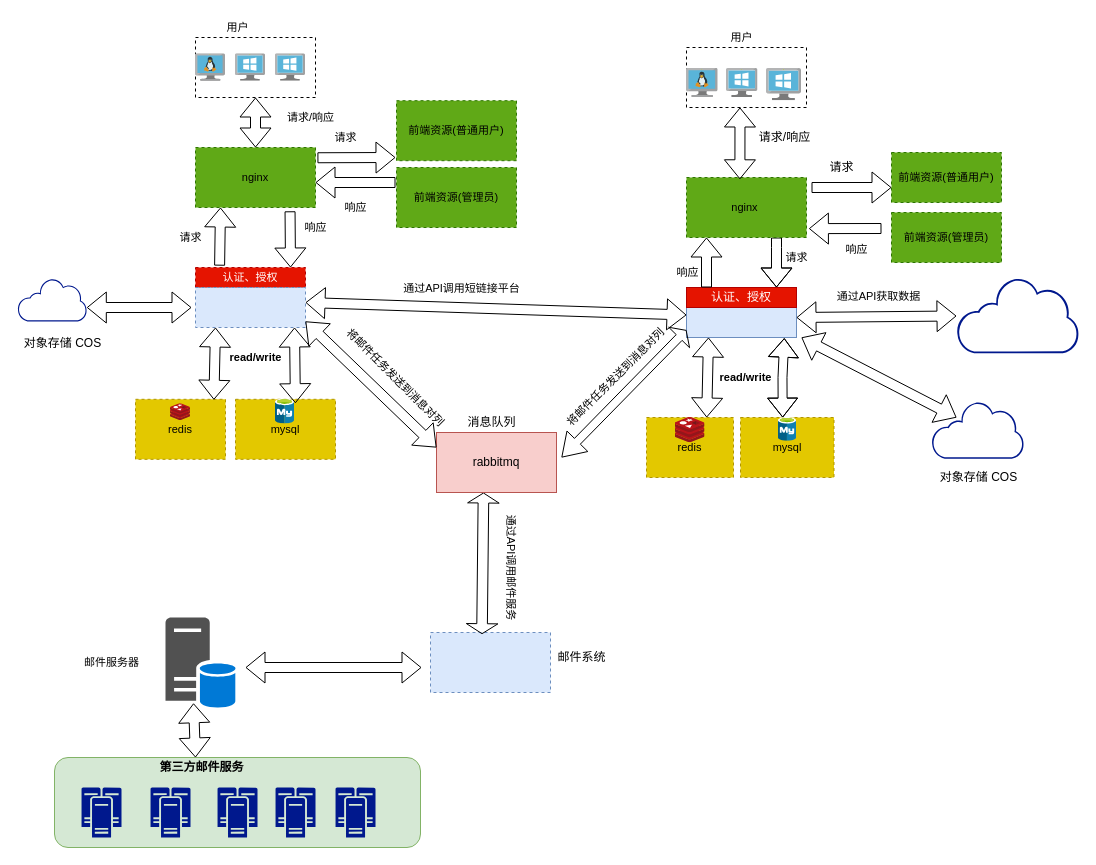
This 1096x865 diagram has some shape labels left out. The centre of each missing label's shape, as x and y in pixels:
"天猫、淘宝服务器" goes at (x=1017, y=315).
"推广系统后台API" goes at (x=741, y=322).
"短链接系统后台API" goes at (x=250, y=307).
"邮件服务系统API" goes at (x=490, y=662).
